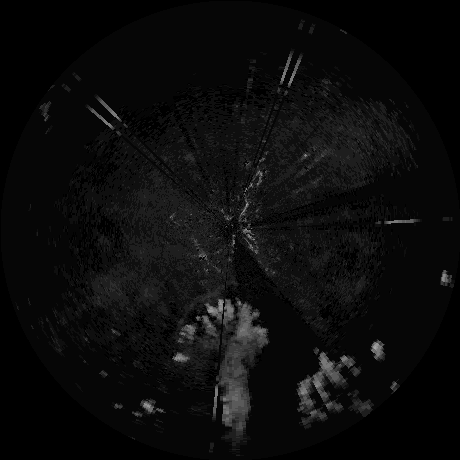frontgust: (180, 279, 233, 317)
